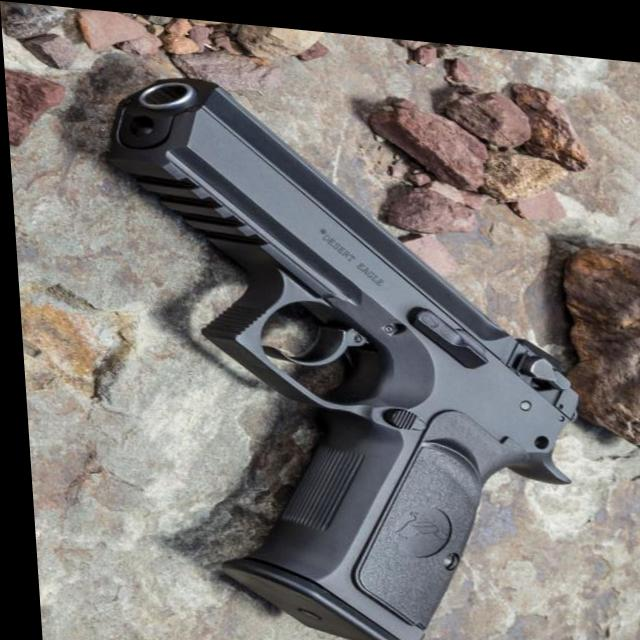handgun: (104, 44, 594, 640)
